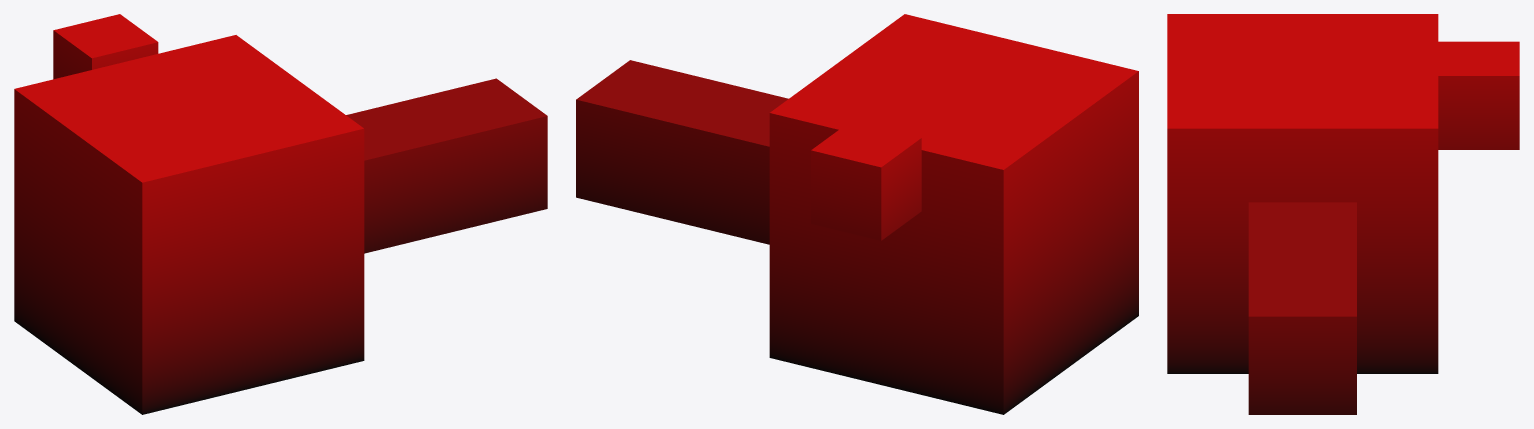
Rendered from Test_Asym.fbx.
3 views of the same model, side by side, from view 1: azimuth 30°, elevation 25°; view 2: azimuth 150°, elevation 25°; view 3: azimuth 270°, elevation 25° (orthographic). The views are drawn at different scales.
Parts seen in each view (by area): view 1: Test_Asym; view 2: Test_Asym; view 3: Test_Asym.
Part boxes in pixels (x1,y1,x2,y2): Test_Asym: [14, 14, 547, 414]; Test_Asym: [576, 14, 1138, 414]; Test_Asym: [1167, 14, 1519, 414].
Size of the model in its own units: 2 by 1.05 by 1.3.
